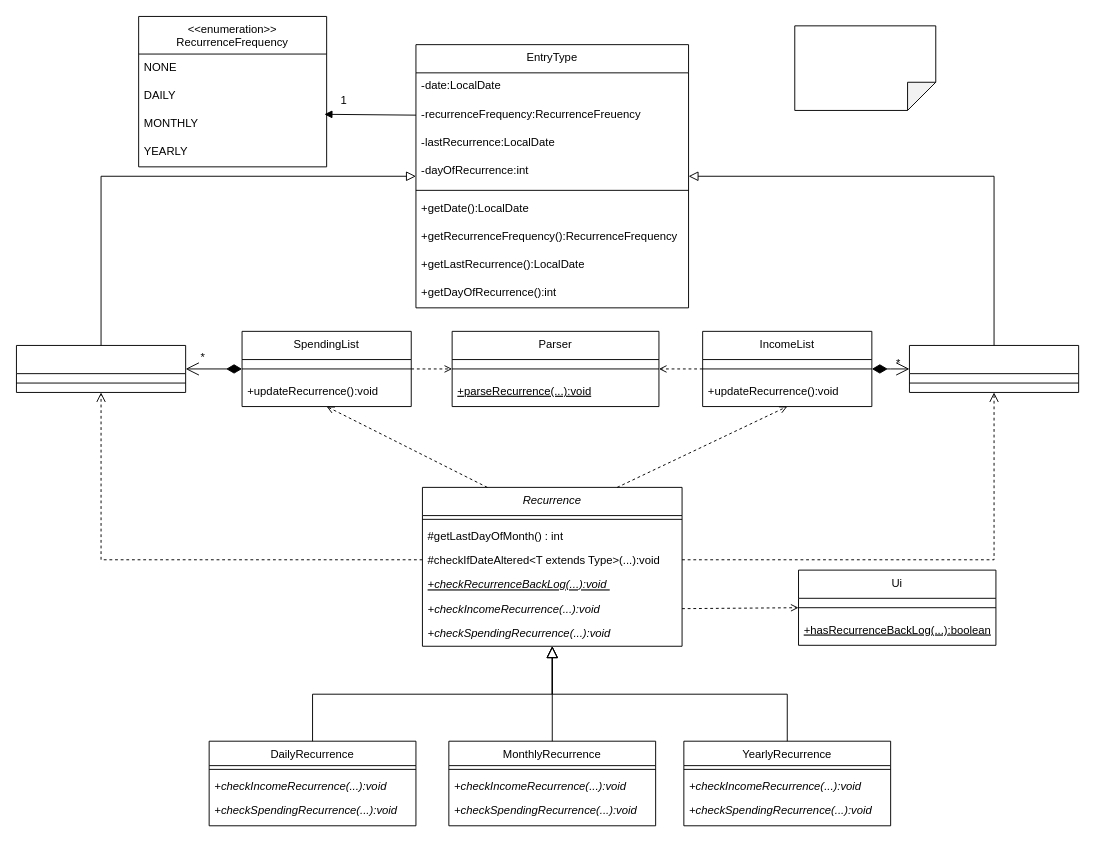
The diagram is 1095 pixels wide and 845 high, and some of its shapes have lost their labels. The shapes that lost their labels are listed below. From the top down, each one's centre as x and y in pixels, then its label:
point (865, 67): Only essential method and attributes used for recurrence functionality is shown
point (101, 368): Spending
point (994, 368): Income
